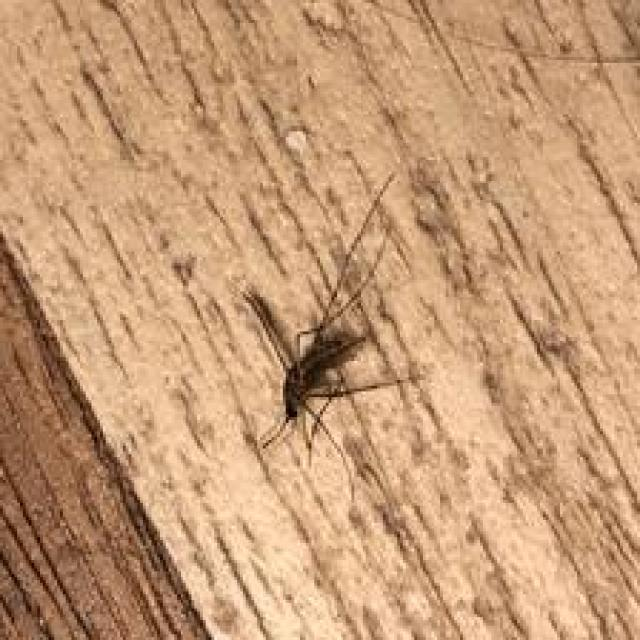Culex: (233, 170, 424, 461)
